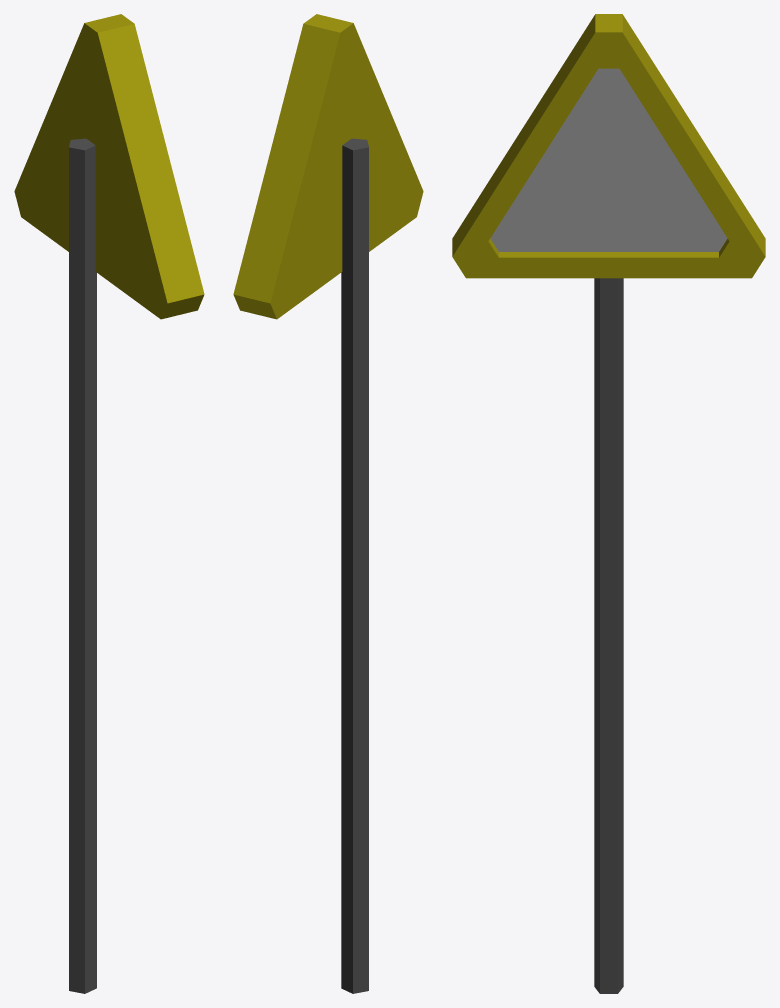
The model's file is Sign_Triangle.glb.
3 renders of one model, left to right at view 1: azimuth 30°, elevation 25°; view 2: azimuth 150°, elevation 25°; view 3: azimuth 270°, elevation 25°, orthographic. The views are drawn at different scales.
Parts seen in each view (by area): view 1: Triangle_Cylinder.001; view 2: Triangle_Cylinder.001; view 3: Triangle_Cylinder.001.
Part boxes in pixels (x1,y1,x2,y2): Triangle_Cylinder.001: [14, 14, 204, 993]; Triangle_Cylinder.001: [233, 14, 423, 993]; Triangle_Cylinder.001: [452, 14, 765, 993].
Bounding box in the file's own units: 0.0345 × 0.5344 × 0.1549.
